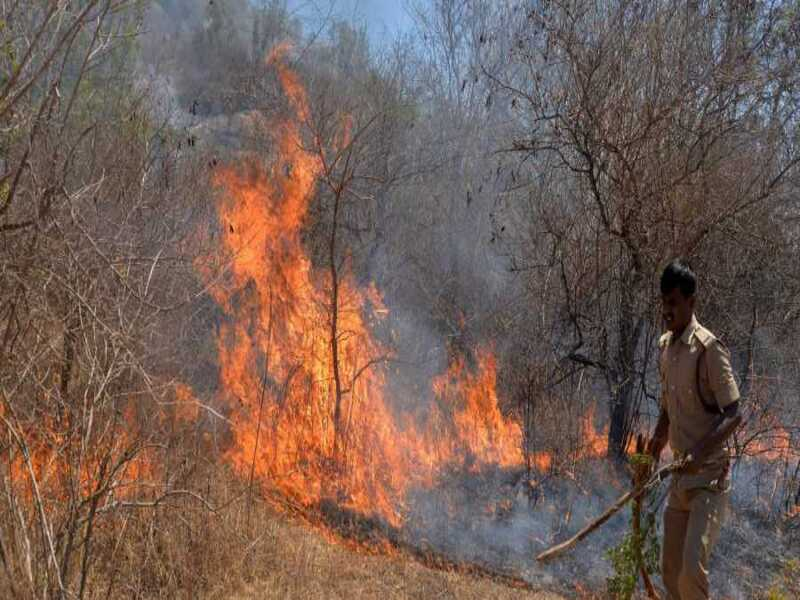fire: (209, 185, 431, 534)
